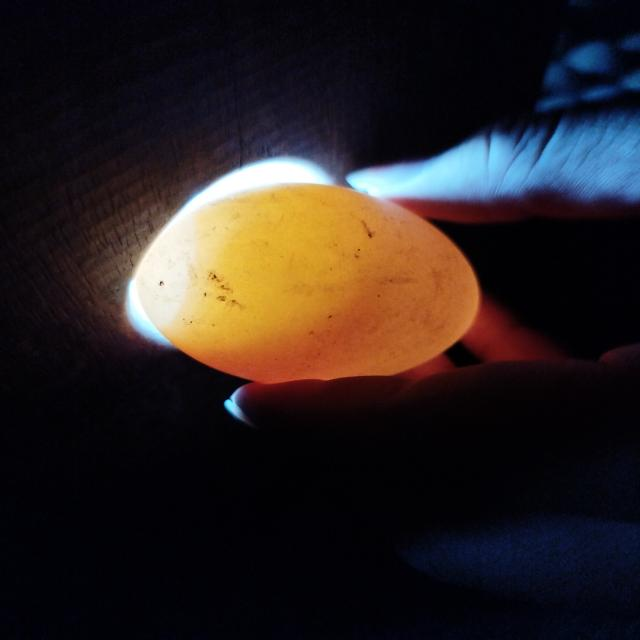Camara de Ar: (137, 216, 196, 325)
